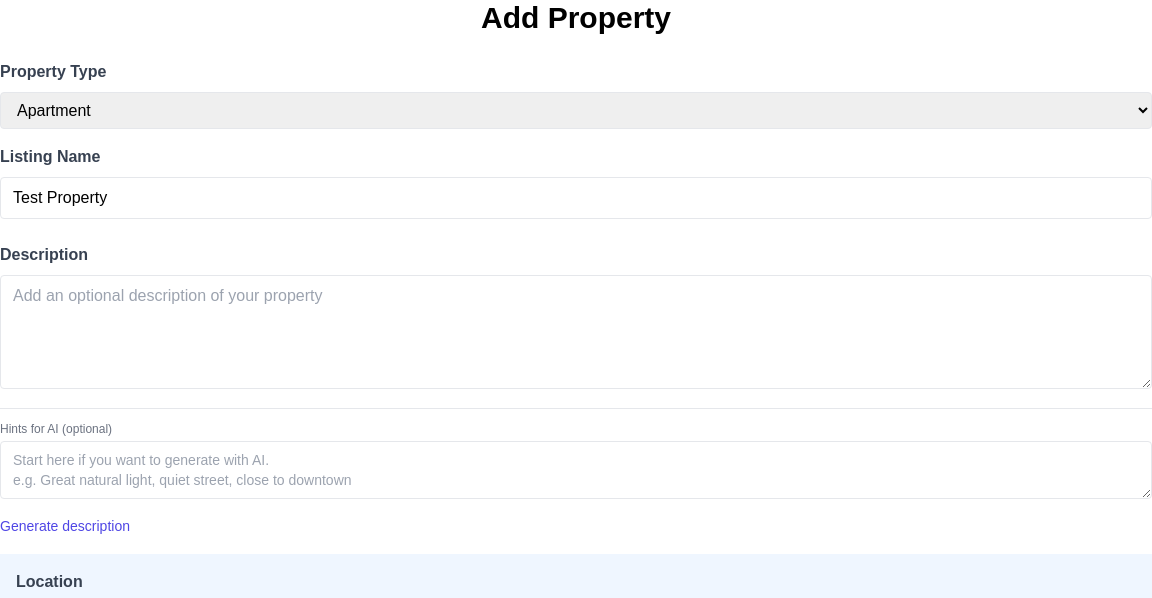
Test: PropertyAddForm — AI generate description › clears the error when the user types in the rawNotes field
Click the button "Generate description".
click(65, 526)  # box [0, 516, 130, 536]
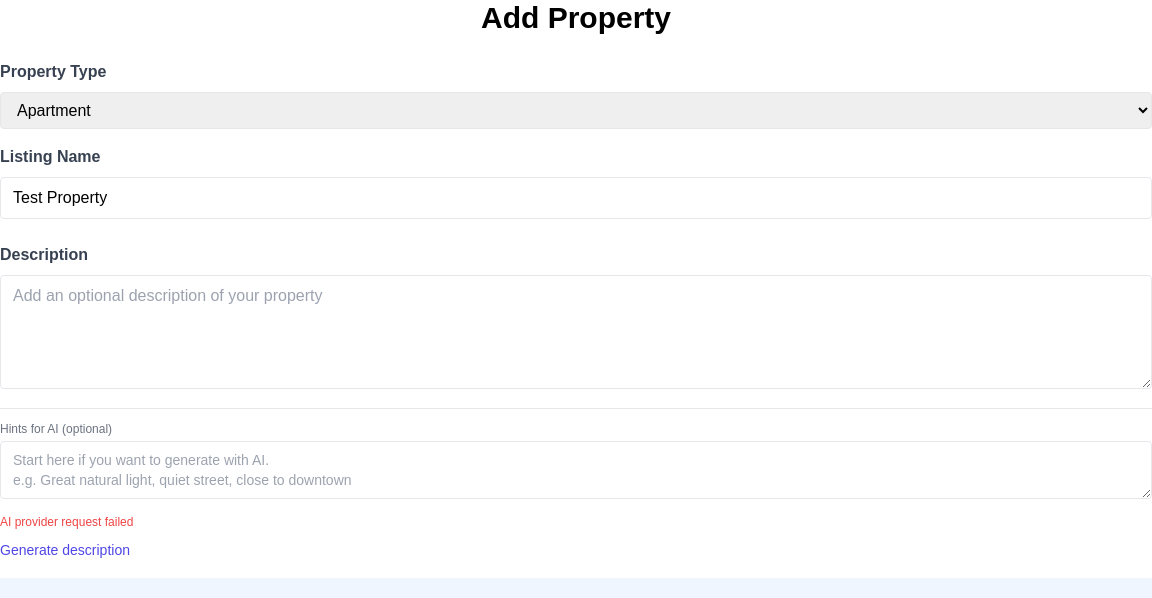
Now the text "AI provider request failed" is shown, box [0, 515, 133, 529]
Type "quiet street" into the text box with placeholder "Start here if you want to generate with AI".
click(576, 470); type("quiet street")  # box [0, 441, 1151, 499]
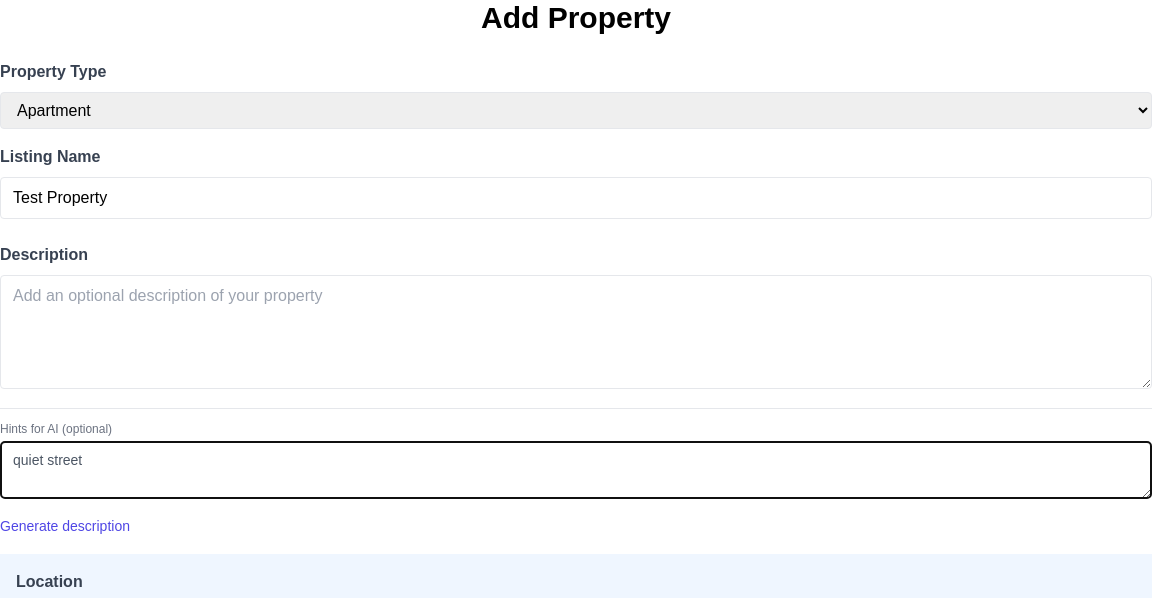
Now the text "AI provider request failed" is gone
